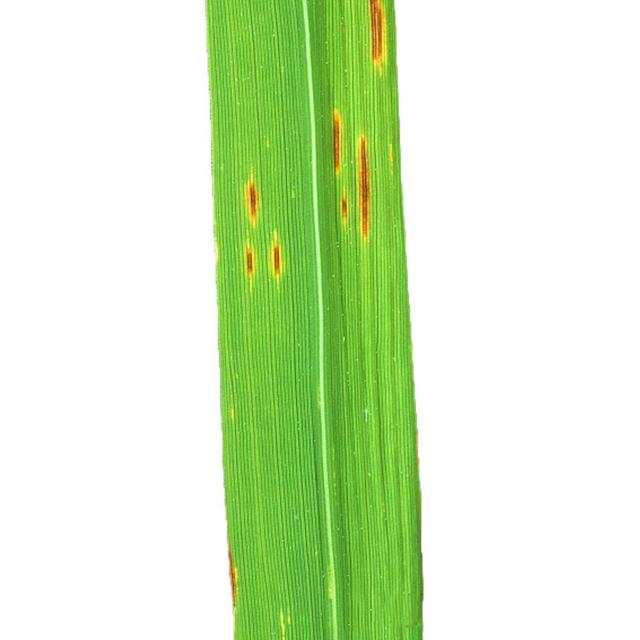Narrow brown: (182, 0, 442, 640)
